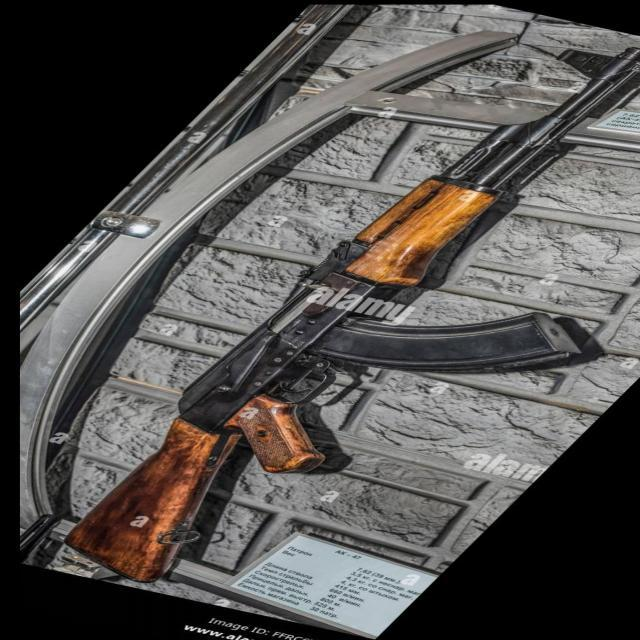weapon: (62, 44, 640, 584)
